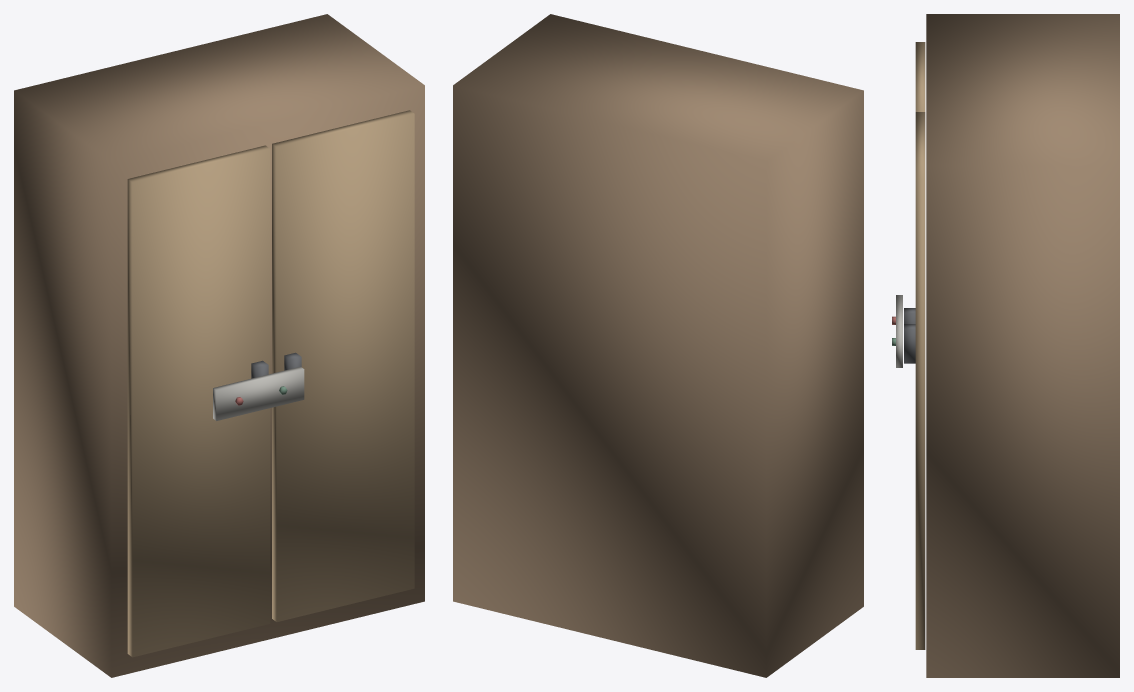
The model's file is tv_stand__compact.glb.
3 renders of one model, left to right at view 1: azimuth 30°, elevation 25°; view 2: azimuth 150°, elevation 25°; view 3: azimuth 270°, elevation 25°, orthographic.
Parts seen in each view (by area): view 1: world; view 2: world; view 3: world.
Part boxes in pixels (left/top/right/bottom): world: left=14, top=14, right=424, bottom=677; world: left=453, top=14, right=863, bottom=677; world: left=892, top=14, right=1119, bottom=677.
Bounding box in the file's own units: 0.798 × 1.26 × 0.5061.
